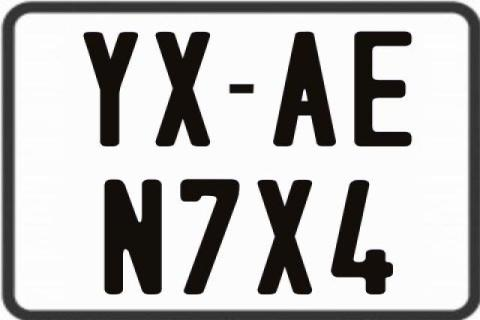0: (328, 178, 392, 296), (178, 178, 238, 294)
A: (272, 32, 337, 150)
E: (351, 29, 415, 147)
N: (101, 177, 163, 293)
X: (153, 29, 213, 149), (255, 180, 309, 295)
Y: (83, 31, 144, 147)
